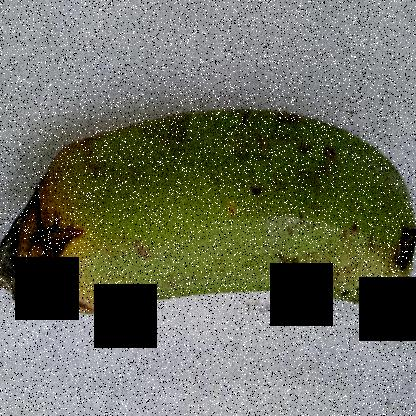rotten: (1, 161, 123, 313), (376, 212, 415, 293)
unripe: (86, 84, 416, 341)
